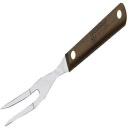fork: (3, 10, 128, 127)
